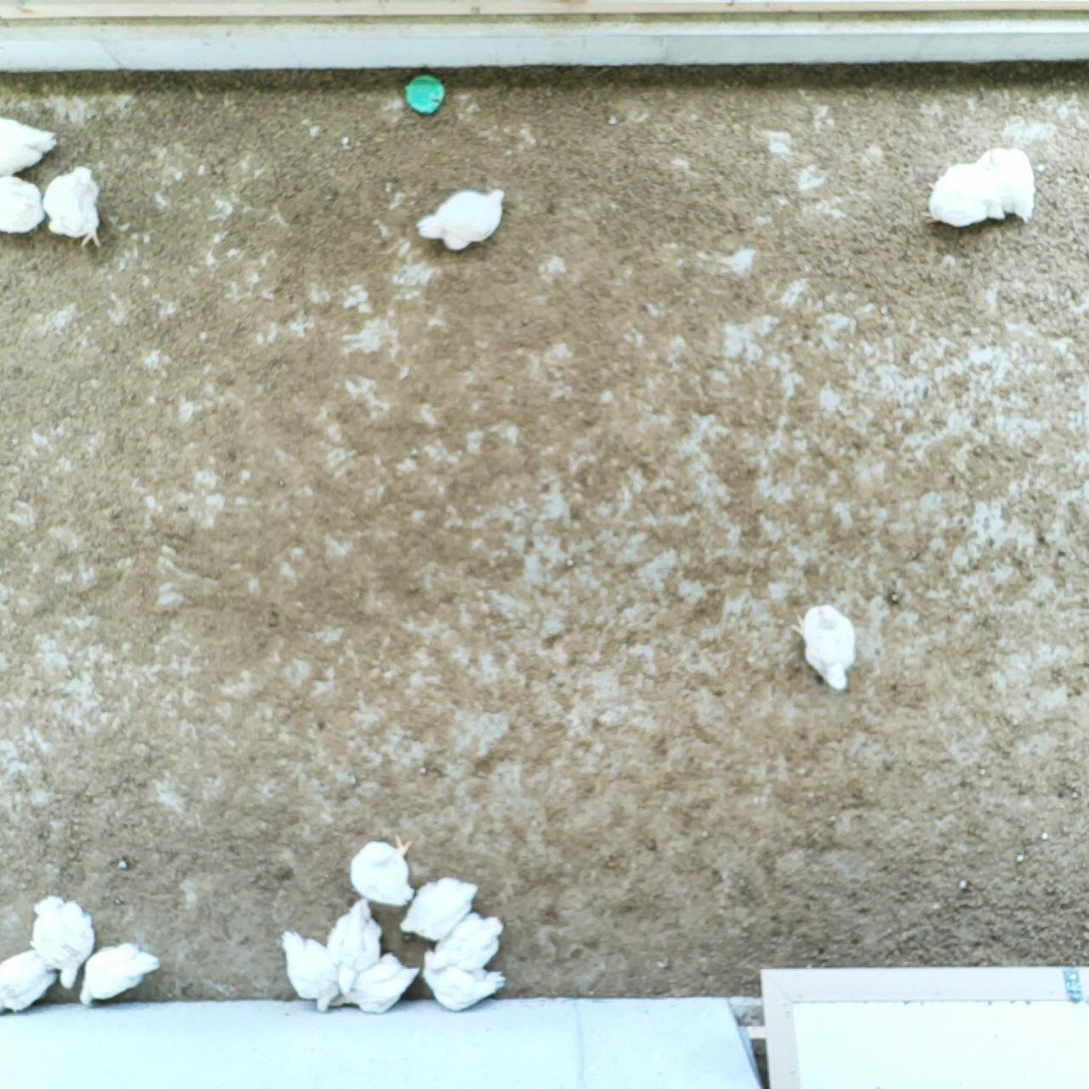chicken: (30, 890, 96, 994), (415, 186, 509, 255), (791, 598, 857, 694), (39, 164, 105, 255), (923, 160, 1004, 234), (325, 893, 382, 995), (420, 911, 508, 976), (403, 875, 482, 942), (79, 941, 160, 1006), (279, 925, 340, 1011), (348, 832, 415, 908), (971, 146, 1036, 221), (340, 958, 423, 1016), (420, 960, 507, 1013), (0, 109, 59, 182), (0, 945, 59, 1017), (0, 174, 46, 235)
